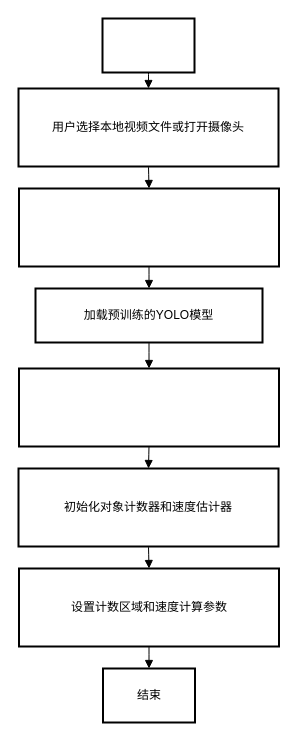
The diagram is 297 pixels wide and 740 high, and some of its shapes have lost their labels. Here are the shapes that lost their labels. From the top down, the centre of each, then its label:
At (148,45): "开始".
At (149,227): "根据选择的视频源初始化cv2.VideoCapture对象".
At (149,407): "配置模型参数（如置信度阈值）".
